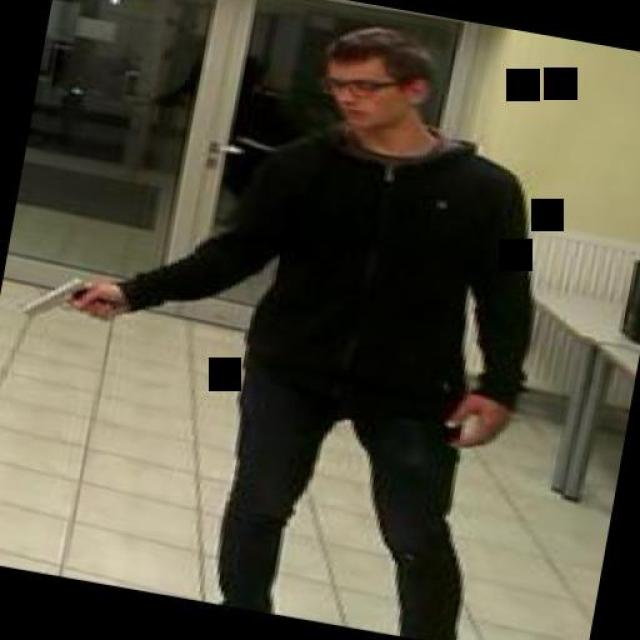gun: (14, 261, 125, 335)
